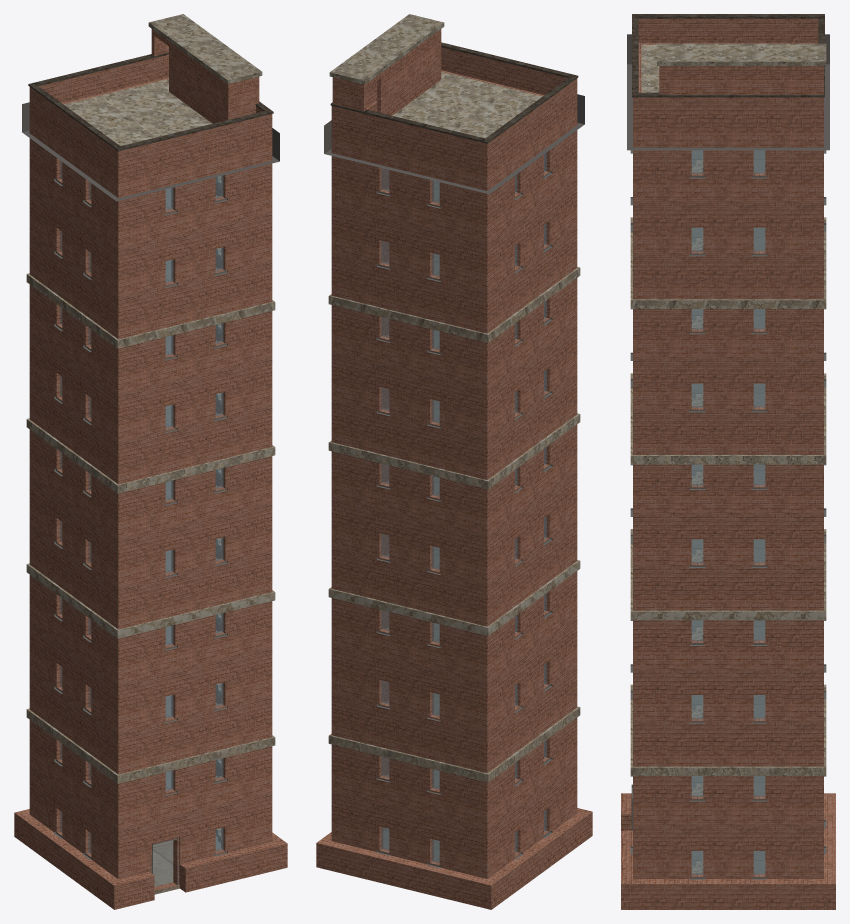
The model's file is ew-chimney.works-v2.lod0.glb.
The picture shows the model from 3 angles, left to right: view 1: azimuth 30°, elevation 25°; view 2: azimuth 150°, elevation 25°; view 3: azimuth 270°, elevation 25°; orthographic projection. The views are drawn at different scales.
Parts seen in each view (by area): view 1: ew-chimney; view 2: ew-chimney; view 3: ew-chimney.
Boxes of the visible parts, x1,y1,x2,y2 form: ew-chimney: (14,14,287,909); ew-chimney: (316,14,592,909); ew-chimney: (621,14,835,909).
Bounding box in the file's own units: 9 × 39 × 9.
5 materials, 3 textured.
